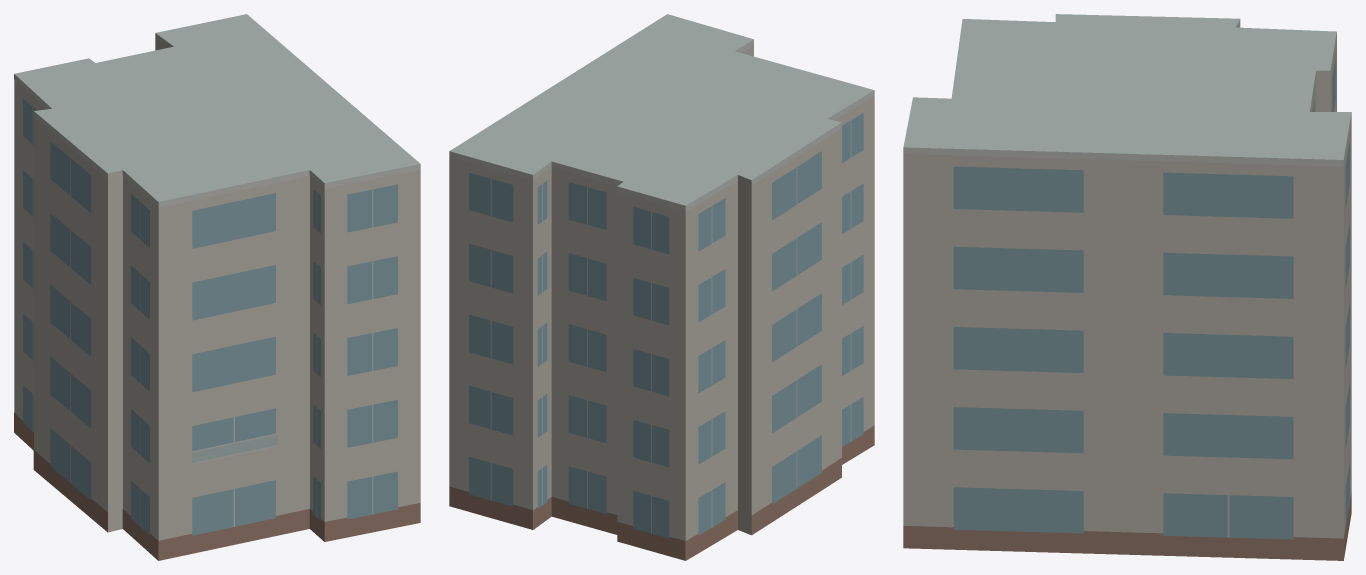
The model's file is survey-upis-32910492.glb.
3 renders of one model, left to right at view 1: azimuth 30°, elevation 25°; view 2: azimuth 150°, elevation 25°; view 3: azimuth 270°, elevation 25°, orthographic. The views are drawn at different scales.
Visible parts, largest first — view 1: survey-upis-32910492.tmp; view 2: survey-upis-32910492.tmp; view 3: survey-upis-32910492.tmp.
Boxes of the visible parts, x1,y1,x2,y2 form: survey-upis-32910492.tmp: (14, 14, 420, 560); survey-upis-32910492.tmp: (449, 14, 874, 560); survey-upis-32910492.tmp: (903, 14, 1351, 560).
Bounding box in the file's own units: 11.8 × 15.1 × 15.31.
